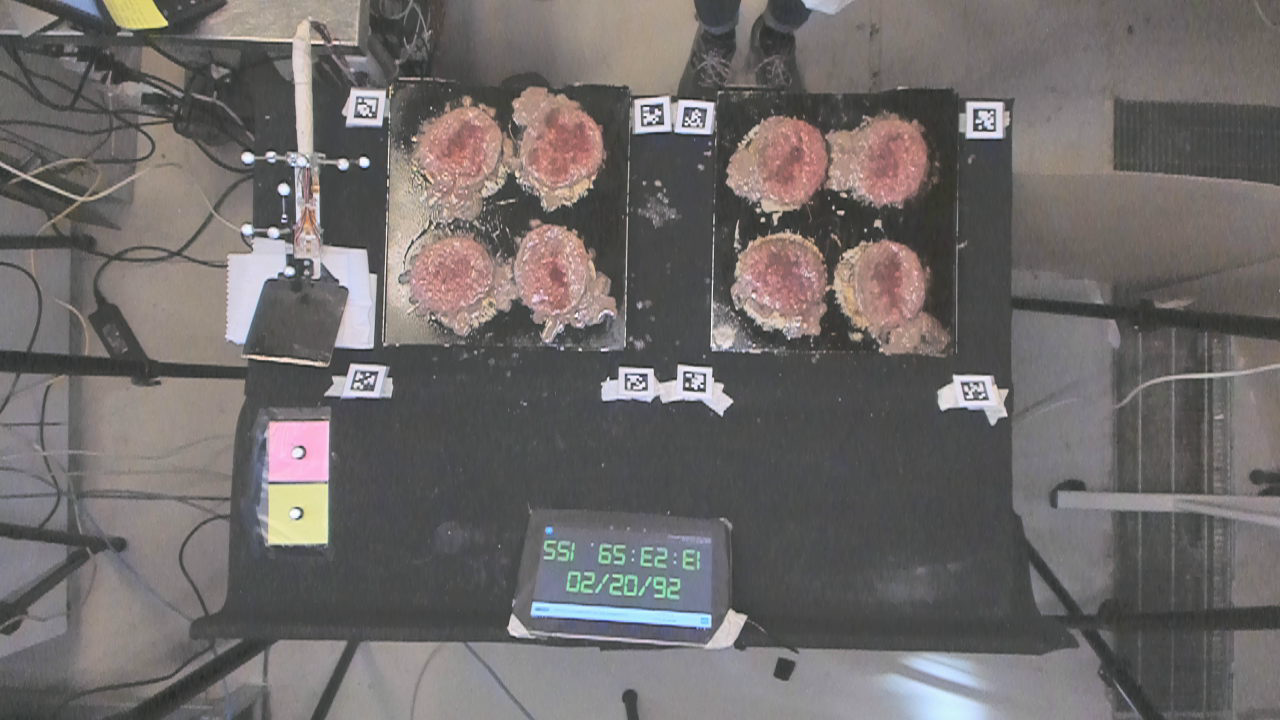hamburger: (857, 108, 933, 210), (414, 106, 501, 189), (741, 237, 827, 313), (752, 120, 828, 200), (515, 228, 584, 316), (531, 106, 608, 183), (855, 241, 923, 328), (407, 237, 492, 306)
marker: (268, 420, 329, 480)
